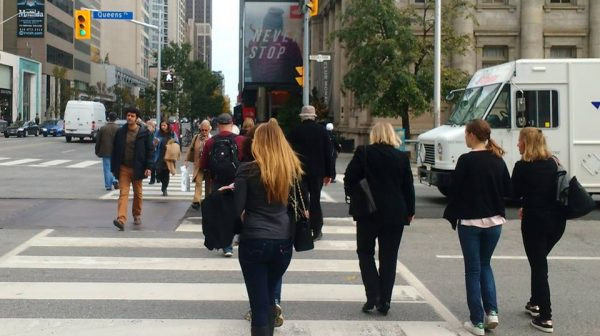pedestrian: (440, 119, 518, 335), (337, 119, 421, 316), (231, 122, 308, 336), (508, 125, 578, 332), (196, 113, 243, 253), (110, 108, 150, 233), (149, 118, 181, 197)
